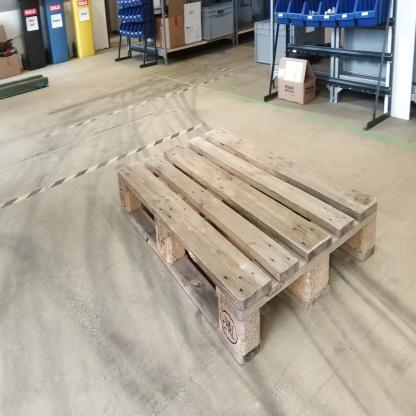BoxFace: (113, 121, 382, 375)
